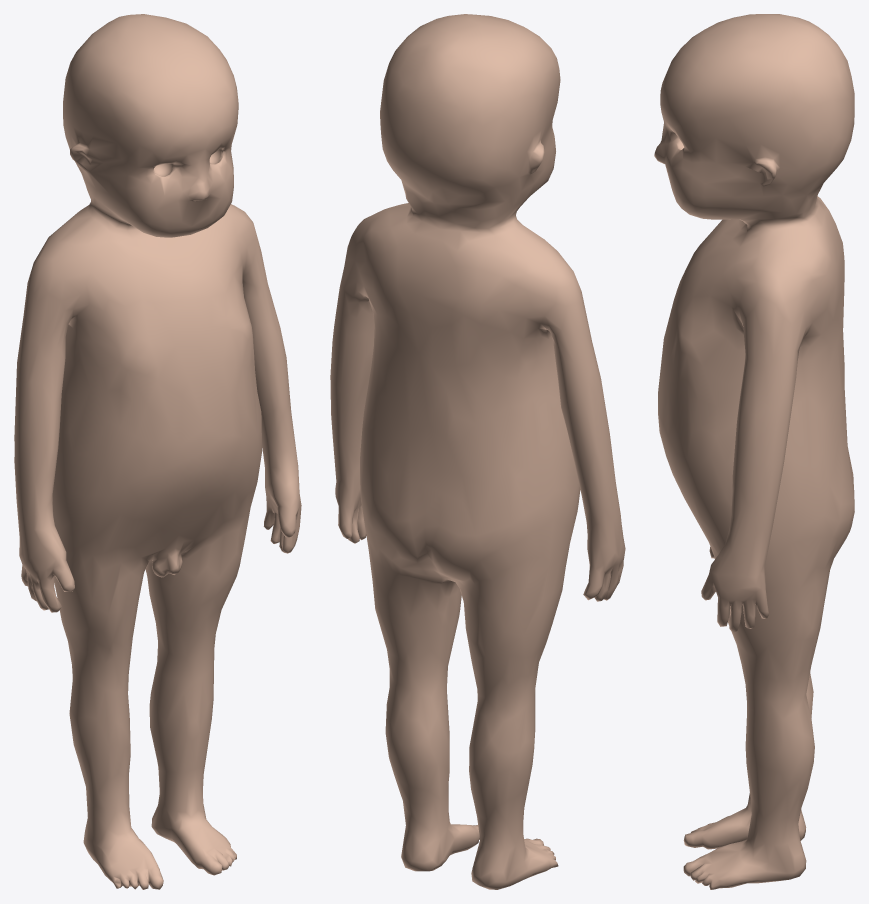
File: pediatric_infant_male.surface.LOD2.glb
3 views of the same model, side by side, from view 1: azimuth 30°, elevation 25°; view 2: azimuth 150°, elevation 25°; view 3: azimuth 270°, elevation 25° (orthographic). The views are drawn at different scales.
Visible parts, largest first — view 1: PEDIATRIC.INFANT.MALE.SURFACE.SKIN; view 2: PEDIATRIC.INFANT.MALE.SURFACE.SKIN; view 3: PEDIATRIC.INFANT.MALE.SURFACE.SKIN.
Boxes of the visible parts, <box> form: PEDIATRIC.INFANT.MALE.SURFACE.SKIN: <box>14,14,301,889</box>; PEDIATRIC.INFANT.MALE.SURFACE.SKIN: <box>330,14,625,889</box>; PEDIATRIC.INFANT.MALE.SURFACE.SKIN: <box>654,14,854,889</box>.
Bounding box in the file's own units: 0.2608 × 0.7602 × 0.1652.
